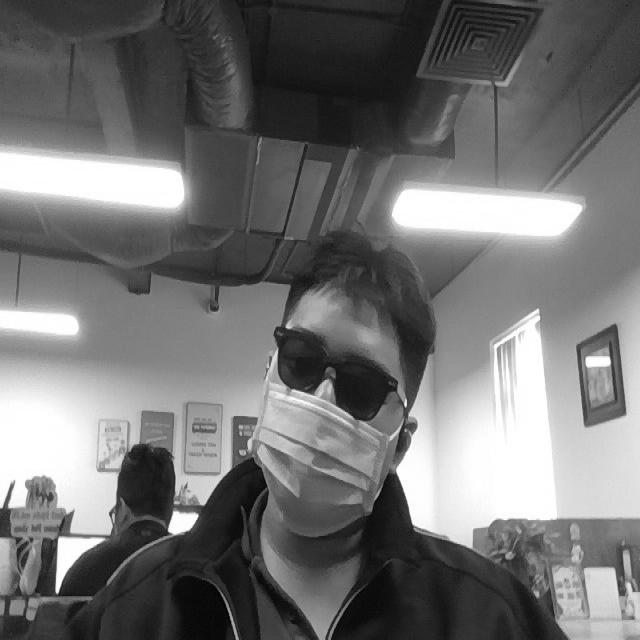fake: (259, 386, 391, 532), (271, 328, 405, 419)
